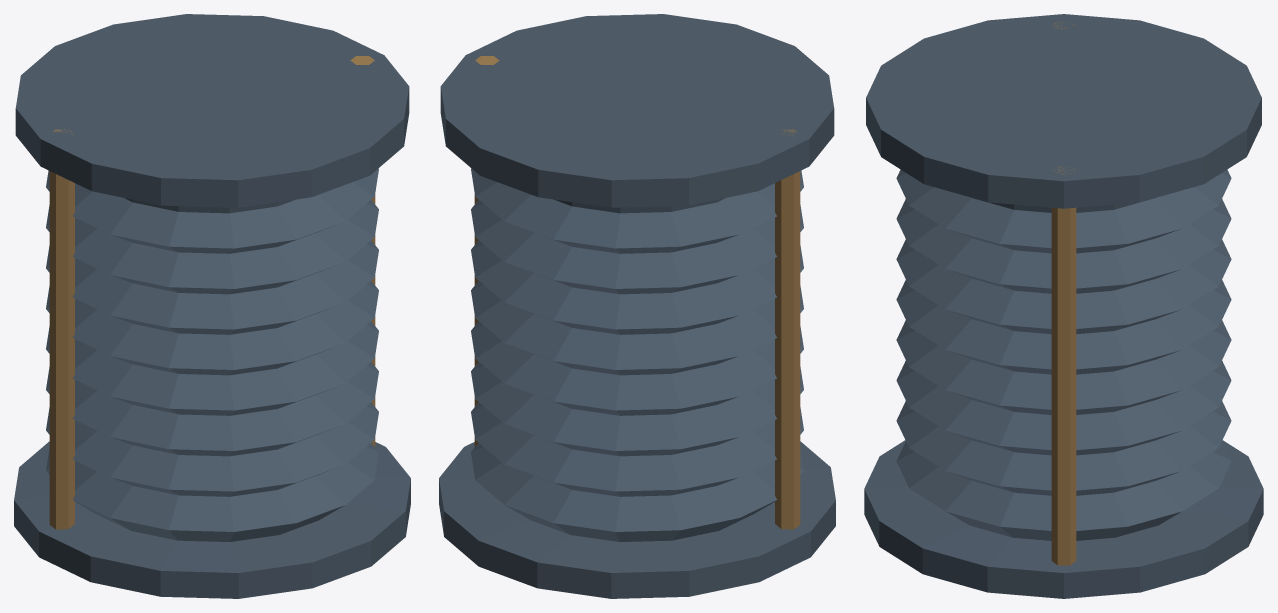
Rendered from E-08_expansion_bellows.glb.
The picture shows the model from 3 angles, left to right: view 1: azimuth 30°, elevation 25°; view 2: azimuth 150°, elevation 25°; view 3: azimuth 270°, elevation 25°; orthographic projection.
Parts seen in each view (by area): view 1: E-08_expansion_bellows; view 2: E-08_expansion_bellows; view 3: E-08_expansion_bellows.
Part boxes in pixels (x1,y1,x2,y2): E-08_expansion_bellows: (14,14,410,598); E-08_expansion_bellows: (439,14,835,598); E-08_expansion_bellows: (864,14,1263,598).
Size of the model in its own units: 0.224 by 0.258 by 0.224.
